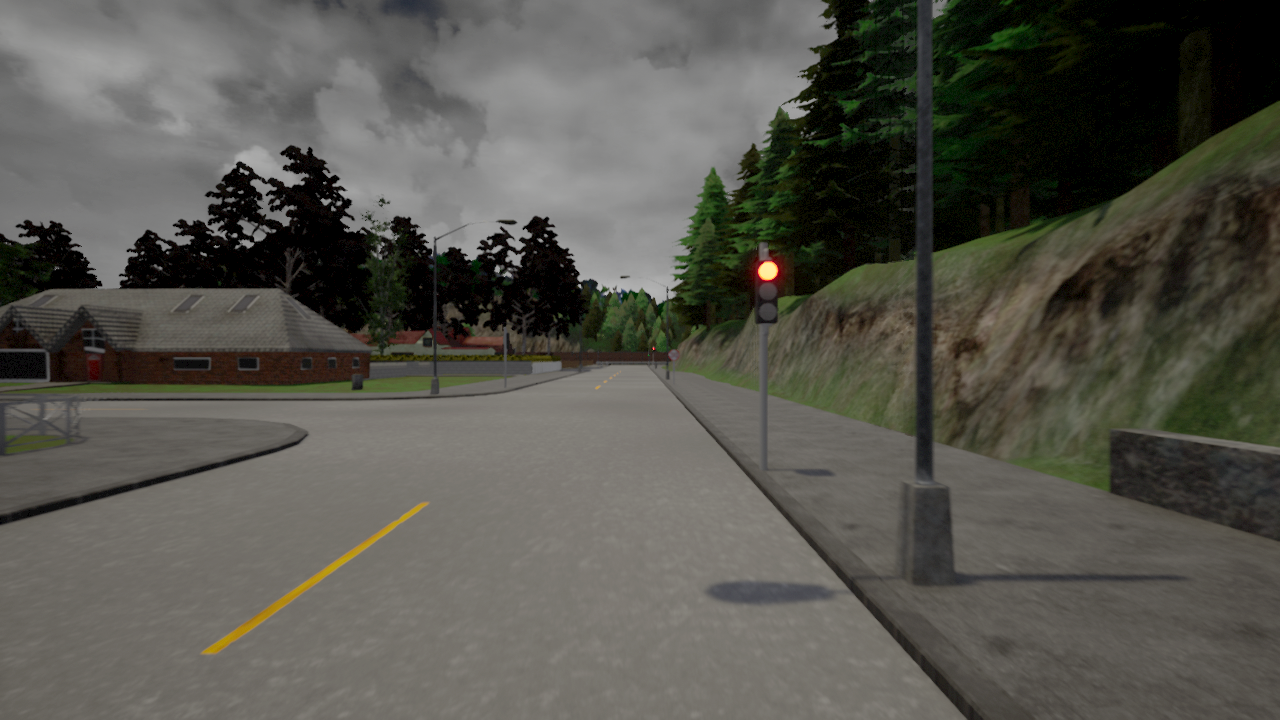red: (754, 256, 778, 326)
